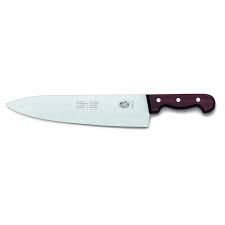knife: (3, 92, 216, 130)
